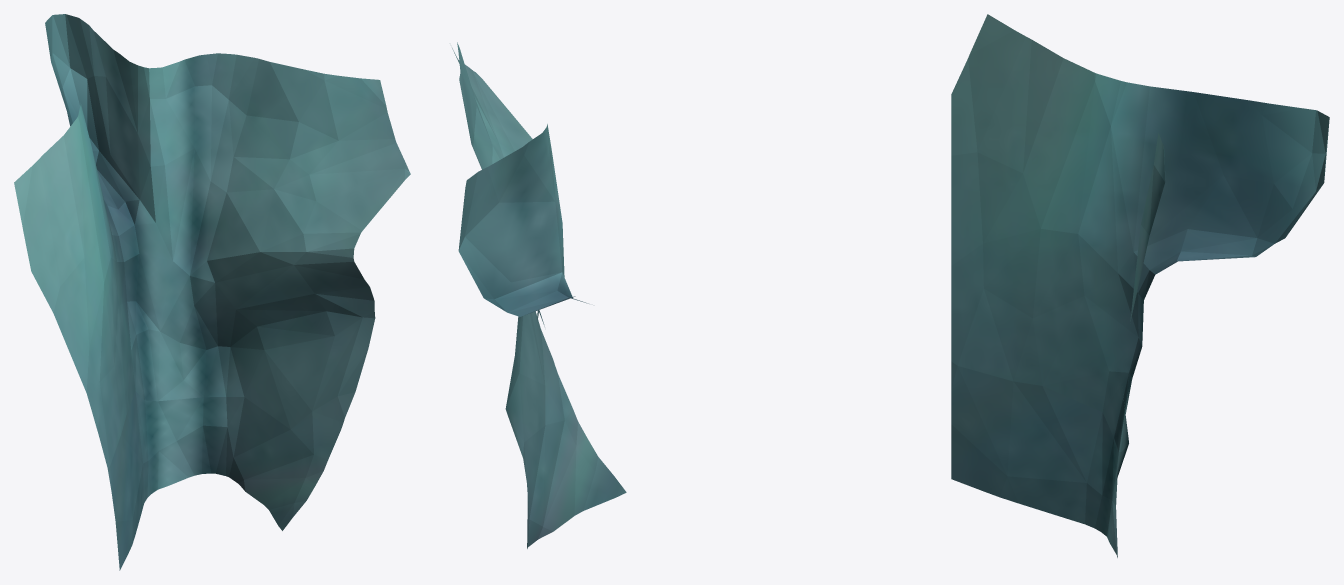
The picture shows the model from 3 angles, left to right: view 1: azimuth 30°, elevation 25°; view 2: azimuth 150°, elevation 25°; view 3: azimuth 270°, elevation 25°; orthographic projection. The views are drawn at different scales.
Size of the model in its own units: 42.87 by 42.87 by 35.05.
Materials: 1 (1 with a texture image).
